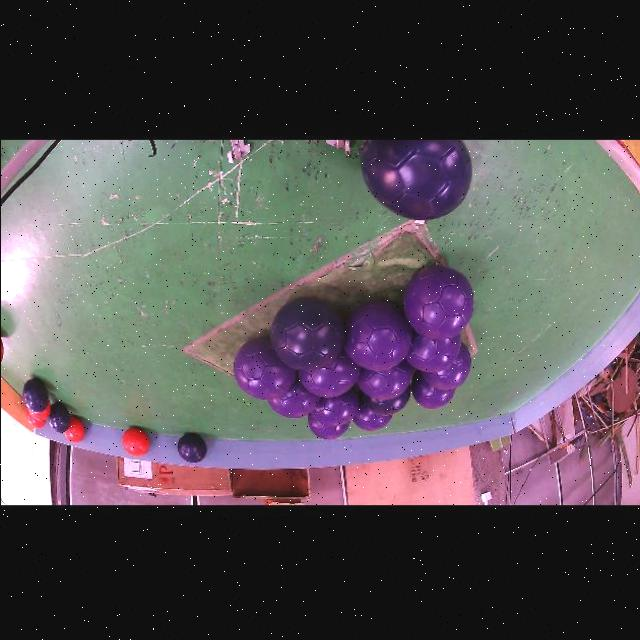B: (359, 139, 471, 219), (269, 298, 344, 371), (362, 385, 410, 415), (21, 378, 48, 412), (176, 433, 205, 462), (47, 402, 70, 433)
P: (402, 265, 472, 340), (344, 301, 411, 371), (232, 338, 294, 400), (298, 349, 360, 397), (421, 344, 471, 390), (405, 331, 461, 372), (357, 359, 412, 400), (268, 375, 318, 418), (311, 388, 358, 426), (410, 371, 454, 409), (351, 397, 391, 431), (307, 412, 349, 439)
R: (122, 428, 148, 457), (62, 416, 84, 443), (25, 409, 45, 429), (26, 406, 51, 420), (0, 336, 2, 363)
